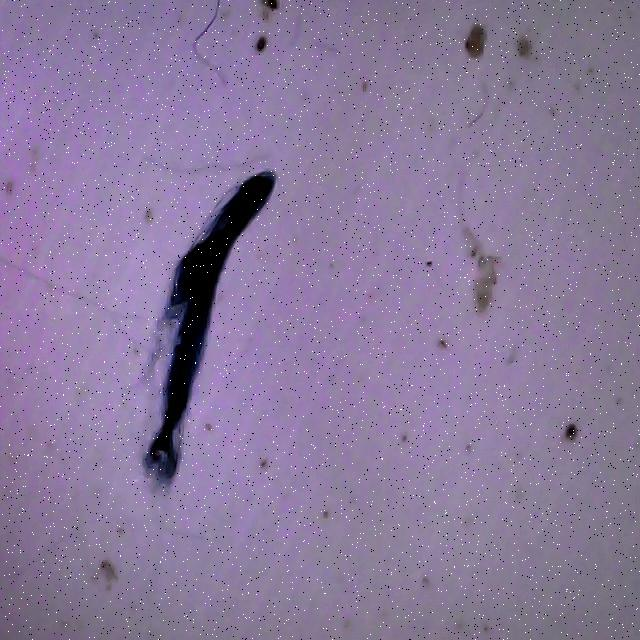fibers: (107, 151, 279, 487)
